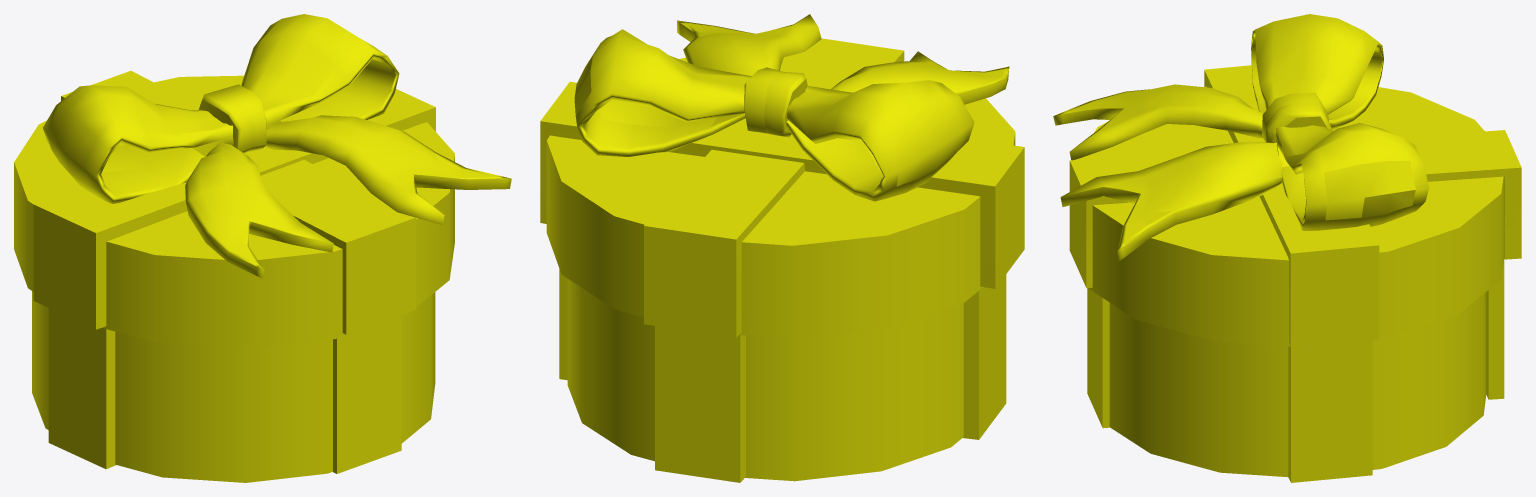
3 views of the same model, side by side, from view 1: azimuth 30°, elevation 25°; view 2: azimuth 150°, elevation 25°; view 3: azimuth 270°, elevation 25° (orthographic). The views are drawn at different scales.
Parts seen in each view (by area): view 1: hopqua, naphopqua; view 2: hopqua, naphopqua; view 3: hopqua, naphopqua.
Part boxes in pixels (box(x1,y1,x2,y2)): hopqua: box(14, 14, 511, 348); naphopqua: box(32, 291, 435, 482); hopqua: box(540, 14, 1024, 338); naphopqua: box(559, 269, 1006, 482); hopqua: box(1053, 14, 1521, 347); naphopqua: box(1087, 258, 1504, 482).
Size of the model in its own units: 0.4264 by 0.3327 by 0.4392.
Materials: 1 (1 with a texture image).
